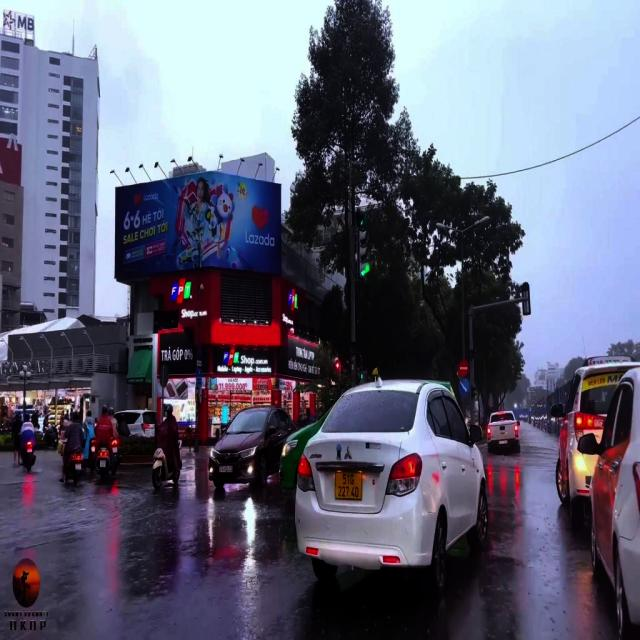cam_xe_di_nguoc_chieu: (458, 360, 469, 377)
huong_phai_di_vuot_chuong_ngai_vat_phai: (458, 378, 470, 399)
